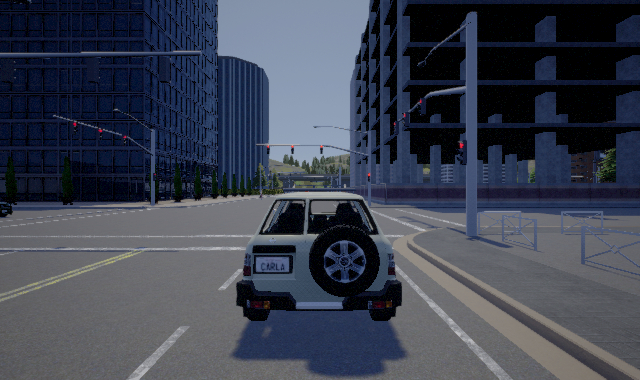traffic_light: (456, 140, 467, 165), (417, 98, 426, 116), (70, 121, 78, 135), (402, 112, 409, 127), (96, 128, 103, 140), (393, 121, 399, 135), (121, 135, 127, 146), (153, 173, 157, 181), (320, 145, 323, 154), (291, 145, 294, 154), (267, 145, 270, 154), (368, 173, 370, 182)
vehicle: (234, 190, 402, 321)
